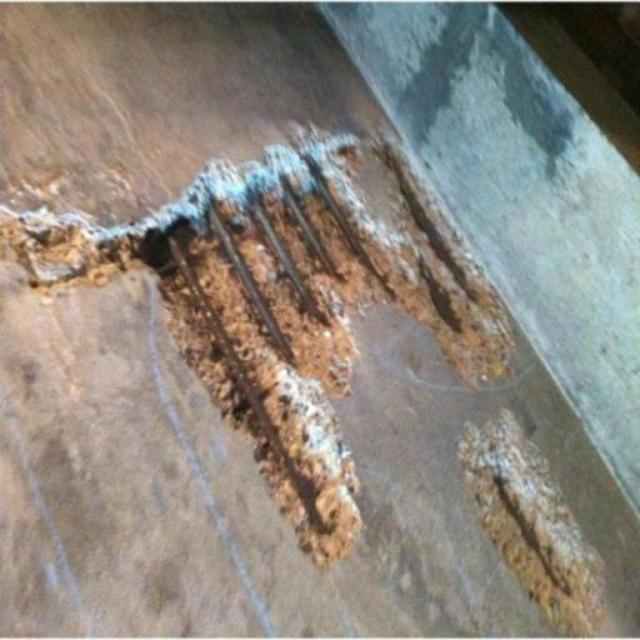D0w0: (50, 114, 608, 605)
